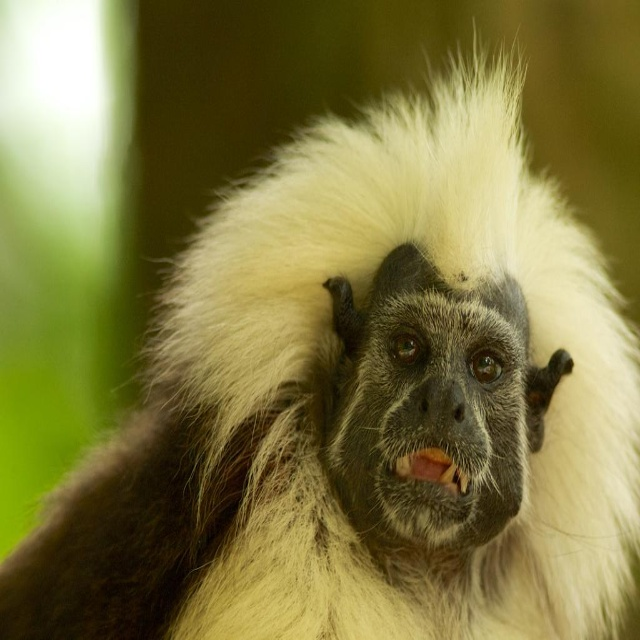Monkey: (0, 16, 640, 640)
